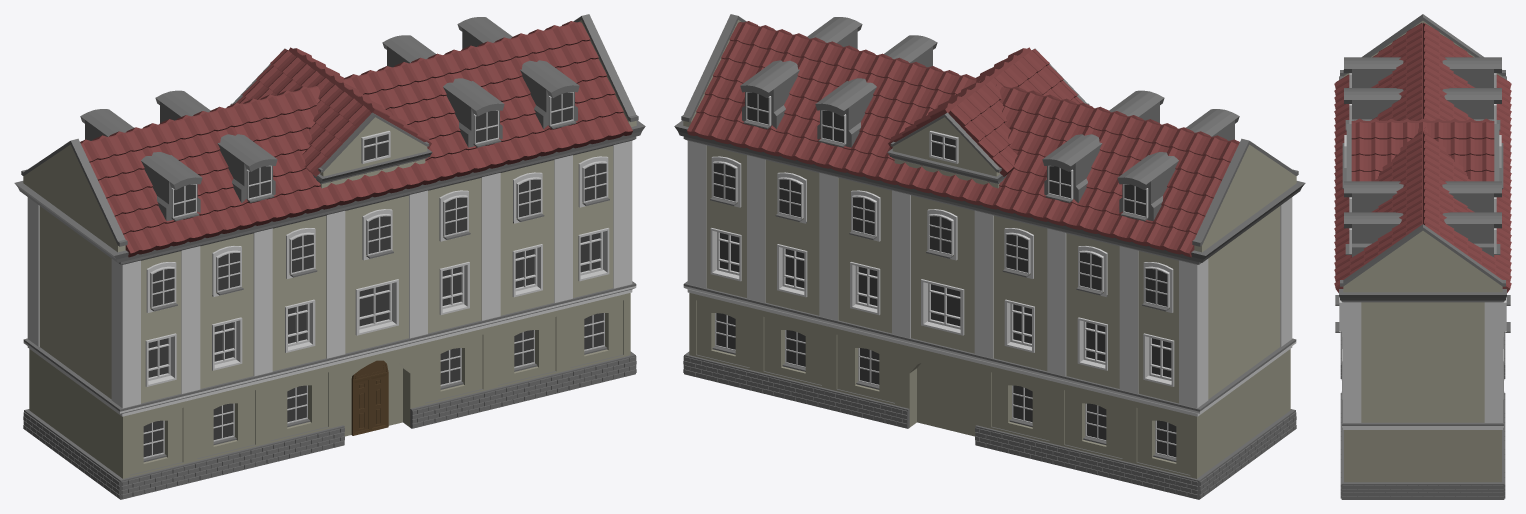
File: house-wide.glb
3 views of the same model, side by side, from view 1: azimuth 30°, elevation 25°; view 2: azimuth 150°, elevation 25°; view 3: azimuth 270°, elevation 25° (orthographic). The views are drawn at different scales.
Visible parts, largest first — view 1: Building1_Large; view 2: Building1_Large; view 3: Building1_Large.
Part boxes in pixels (x1,y1,x2,y2): Building1_Large: [14, 14, 645, 499]; Building1_Large: [674, 14, 1305, 499]; Building1_Large: [1334, 14, 1511, 499].
Size of the model in its own units: 7.99 by 4.67 by 2.74.
